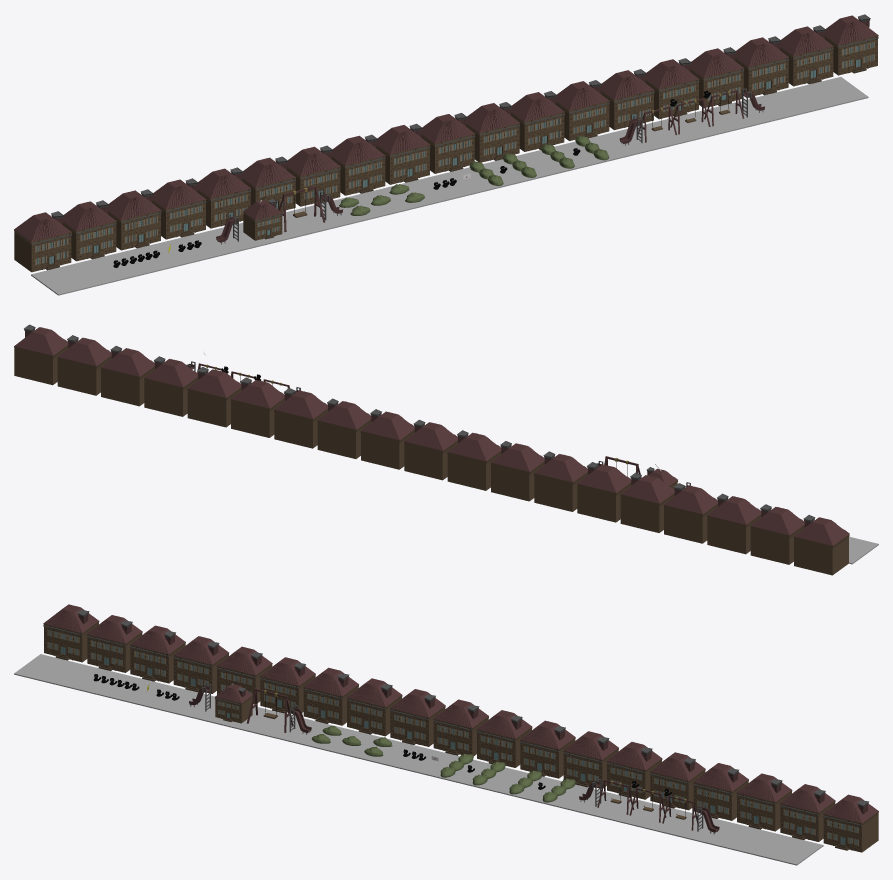
Rendered from Escenario_Completo.fbx.
3 views of the same model, one above another, from view 1: azimuth 30°, elevation 25°; view 2: azimuth 150°, elevation 25°; view 3: azimuth 330°, elevation 25° (orthographic). The views are drawn at different scales.
Parts seen in each view (by area): view 1: coleccioncasas, Suelo, casita1; view 2: coleccioncasas; view 3: coleccioncasas, Suelo, casita1.
Boxes of the visible parts, bbox=[...] form: coleccioncasas: bbox=[14, 14, 878, 272]; Suelo: bbox=[31, 77, 868, 295]; casita1: bbox=[243, 199, 282, 240]; coleccioncasas: bbox=[14, 324, 849, 575]; coleccioncasas: bbox=[43, 604, 878, 852]; Suelo: bbox=[14, 654, 823, 865]; casita1: bbox=[215, 684, 252, 723].
Bounding box in the file's own units: 947 × 49.69 × 88.9.
